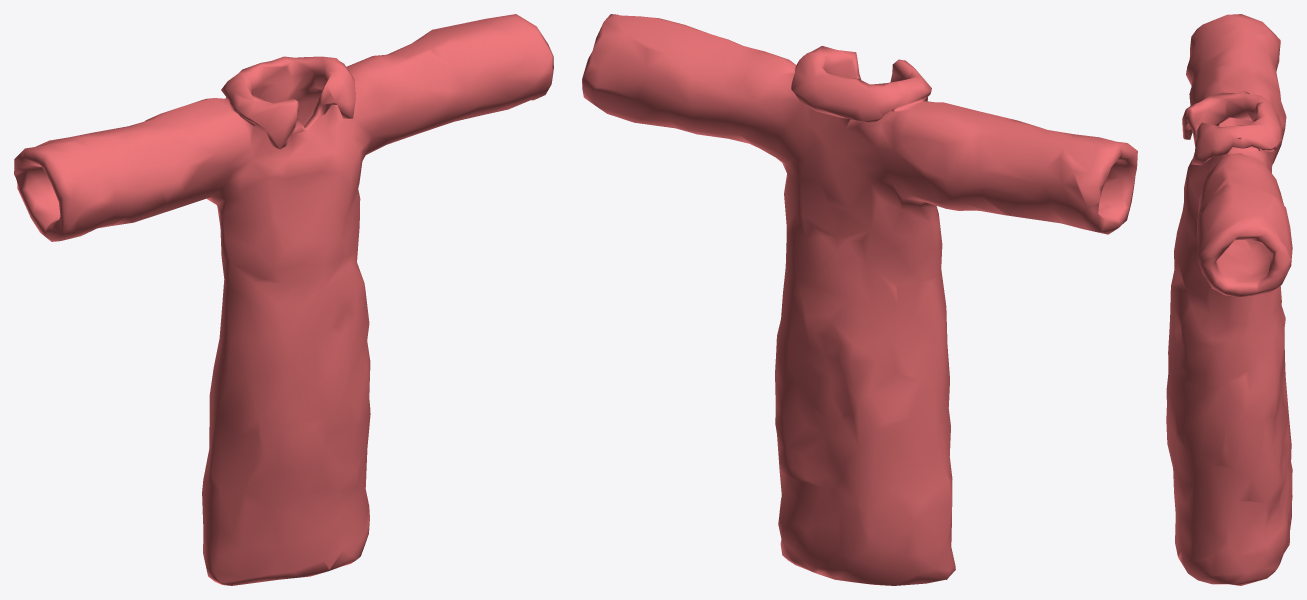
The model's file is collared shirt pink.glb.
3 views of the same model, side by side, from view 1: azimuth 30°, elevation 25°; view 2: azimuth 150°, elevation 25°; view 3: azimuth 270°, elevation 25° (orthographic). The views are drawn at different scales.
Parts seen in each view (by area): view 1: shirt_collared_pink.001; view 2: shirt_collared_pink.001; view 3: shirt_collared_pink.001.
Part boxes in pixels (x1=…): shirt_collared_pink.001: x1=14, y1=14, x2=553, y2=585; shirt_collared_pink.001: x1=582, y1=14, x2=1137, y2=585; shirt_collared_pink.001: x1=1166, y1=14, x2=1292, y2=585.
Bounding box in the file's own units: 0.3709 × 0.3411 × 0.0862.
Materials: 1 (1 with a texture image).
